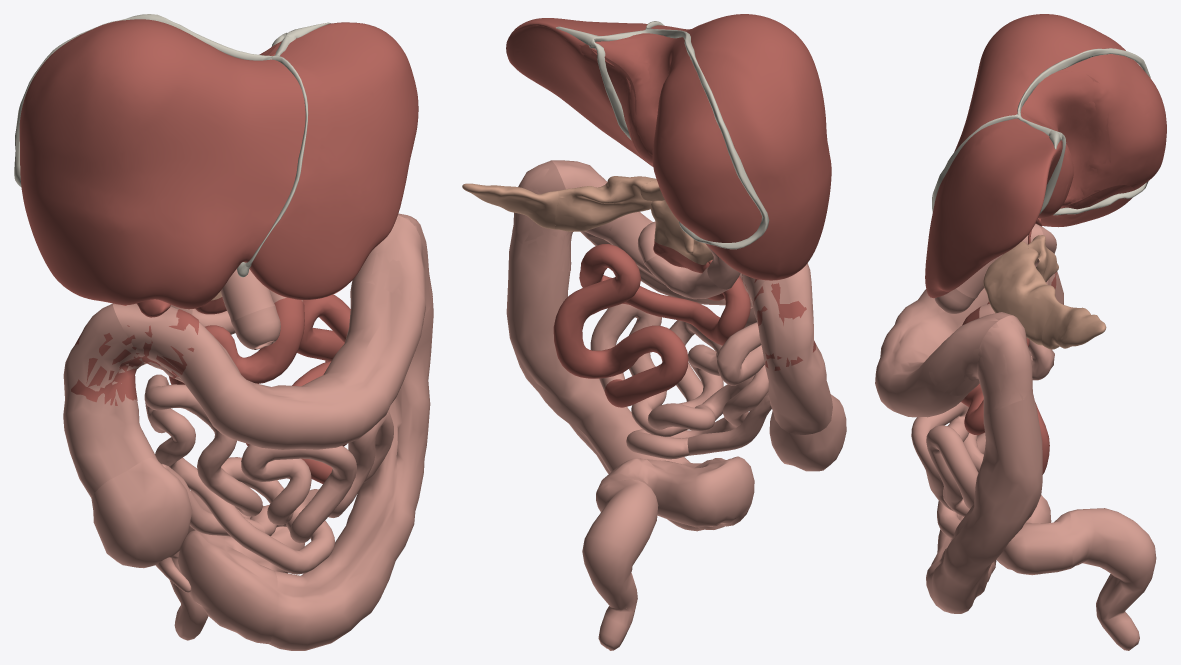
The model's file is adult_female.digestive.LOD0.glb.
3 views of the same model, side by side, from view 1: azimuth 30°, elevation 25°; view 2: azimuth 150°, elevation 25°; view 3: azimuth 270°, elevation 25° (orthographic). The views are drawn at different scales.
Visible parts, largest first — view 1: ADULT.FEMALE.DIGESTIVE.CAPSULE_OF_THE_LIVER, ADULT.FEMALE.DIGESTIVE.TRANSVERSE_COLON, ADULT.FEMALE.DIGESTIVE.ILEUM, ADULT.FEMALE.DIGESTIVE.DESCENDING_COLON, ADULT.FEMALE.DIGESTIVE.ASCENDING_COLON, ADULT.FEMALE.DIGESTIVE.SIGMOID_COLON, ADULT.FEMALE.DIGESTIVE.CAECUM, ADULT.FEMALE.DIGESTIVE.JEJENUM, ADULT.FEMALE.DIGESTIVE.HEPATIC_FLEXURE_OF_COLON, ADULT.FEMALE.DIGESTIVE.DUODENUM_SUPERIOR, ADULT.FEMALE.DIGESTIVE.CORONARY_LIGAMENT_OF_LIVER, ADULT.FEMALE.DIGESTIVE.SPLENIC_FLEXURE_OF_COLON (+4 smaller); view 2: ADULT.FEMALE.DIGESTIVE.CAPSULE_OF_THE_LIVER, ADULT.FEMALE.DIGESTIVE.BARE_AREA_OF_LIVER, ADULT.FEMALE.DIGESTIVE.DESCENDING_COLON, ADULT.FEMALE.DIGESTIVE.JEJENUM, ADULT.FEMALE.DIGESTIVE.ILEUM, ADULT.FEMALE.DIGESTIVE.ASCENDING_COLON, ADULT.FEMALE.DIGESTIVE.RECTUM, ADULT.FEMALE.DIGESTIVE.SIGMOID_COLON, ADULT.FEMALE.DIGESTIVE.DIAPHRAGMATIC_SURFACE_OF_LIVER, ADULT.FEMALE.DIGESTIVE.BODY_OF_PANCREAS, ADULT.FEMALE.DIGESTIVE.TRANSVERSE_COLON, ADULT.FEMALE.DIGESTIVE.CAECUM (+13 smaller); view 3: ADULT.FEMALE.DIGESTIVE.CAPSULE_OF_THE_LIVER, ADULT.FEMALE.DIGESTIVE.DESCENDING_COLON, ADULT.FEMALE.DIGESTIVE.BARE_AREA_OF_LIVER, ADULT.FEMALE.DIGESTIVE.TRANSVERSE_COLON, ADULT.FEMALE.DIGESTIVE.RECTUM, ADULT.FEMALE.DIGESTIVE.ILEUM, ADULT.FEMALE.DIGESTIVE.BODY_OF_PANCREAS, ADULT.FEMALE.DIGESTIVE.SIGMOID_COLON, ADULT.FEMALE.DIGESTIVE.CAUDATE_LOBE, ADULT.FEMALE.DIGESTIVE.TAIL_OF_PANCREAS, ADULT.FEMALE.DIGESTIVE.CORONARY_LIGAMENT_OF_LIVER, ADULT.FEMALE.DIGESTIVE.SPLENIC_FLEXURE_OF_COLON (+7 smaller).
Part boxes in pixels (x1,y1,x2,y2): ADULT.FEMALE.DIGESTIVE.CAPSULE_OF_THE_LIVER: [19, 19, 418, 309]; ADULT.FEMALE.DIGESTIVE.TRANSVERSE_COLON: [113, 215, 425, 449]; ADULT.FEMALE.DIGESTIVE.ILEUM: [144, 374, 393, 574]; ADULT.FEMALE.DIGESTIVE.DESCENDING_COLON: [269, 213, 433, 650]; ADULT.FEMALE.DIGESTIVE.ASCENDING_COLON: [63, 303, 157, 497]; ADULT.FEMALE.DIGESTIVE.SIGMOID_COLON: [178, 506, 305, 643]; ADULT.FEMALE.DIGESTIVE.CAECUM: [91, 457, 192, 568]; ADULT.FEMALE.DIGESTIVE.JEJENUM: [169, 294, 350, 483]; ADULT.FEMALE.DIGESTIVE.HEPATIC_FLEXURE_OF_COLON: [71, 305, 199, 405]; ADULT.FEMALE.DIGESTIVE.DUODENUM_SUPERIOR: [220, 269, 275, 322]; ADULT.FEMALE.DIGESTIVE.CORONARY_LIGAMENT_OF_LIVER: [14, 14, 294, 187]; ADULT.FEMALE.DIGESTIVE.SPLENIC_FLEXURE_OF_COLON: [350, 215, 432, 324]; ADULT.FEMALE.DIGESTIVE.CAPSULE_OF_THE_LIVER: [506, 14, 831, 280]; ADULT.FEMALE.DIGESTIVE.BARE_AREA_OF_LIVER: [588, 35, 761, 242]; ADULT.FEMALE.DIGESTIVE.DESCENDING_COLON: [506, 161, 703, 531]; ADULT.FEMALE.DIGESTIVE.JEJENUM: [553, 244, 750, 407]; ADULT.FEMALE.DIGESTIVE.ILEUM: [590, 303, 768, 459]; ADULT.FEMALE.DIGESTIVE.ASCENDING_COLON: [752, 263, 832, 434]; ADULT.FEMALE.DIGESTIVE.RECTUM: [582, 479, 658, 650]; ADULT.FEMALE.DIGESTIVE.SIGMOID_COLON: [596, 456, 754, 529]; ADULT.FEMALE.DIGESTIVE.DIAPHRAGMATIC_SURFACE_OF_LIVER: [506, 24, 779, 280]; ADULT.FEMALE.DIGESTIVE.BODY_OF_PANCREAS: [555, 176, 656, 231]; ADULT.FEMALE.DIGESTIVE.TRANSVERSE_COLON: [551, 160, 765, 308]; ADULT.FEMALE.DIGESTIVE.CAECUM: [769, 394, 846, 471]; ADULT.FEMALE.DIGESTIVE.CAPSULE_OF_THE_LIVER: [925, 14, 1134, 298]; ADULT.FEMALE.DIGESTIVE.DESCENDING_COLON: [926, 315, 1042, 613]; ADULT.FEMALE.DIGESTIVE.BARE_AREA_OF_LIVER: [1021, 55, 1166, 205]; ADULT.FEMALE.DIGESTIVE.TRANSVERSE_COLON: [875, 288, 1012, 417]; ADULT.FEMALE.DIGESTIVE.RECTUM: [1069, 508, 1156, 650]; ADULT.FEMALE.DIGESTIVE.ILEUM: [911, 340, 1054, 538]; ADULT.FEMALE.DIGESTIVE.BODY_OF_PANCREAS: [983, 248, 1058, 345]; ADULT.FEMALE.DIGESTIVE.SIGMOID_COLON: [937, 495, 1072, 575]; ADULT.FEMALE.DIGESTIVE.CAUDATE_LOBE: [1022, 71, 1110, 217]; ADULT.FEMALE.DIGESTIVE.TAIL_OF_PANCREAS: [1042, 302, 1106, 349]; ADULT.FEMALE.DIGESTIVE.CORONARY_LIGAMENT_OF_LIVER: [1017, 48, 1150, 215]; ADULT.FEMALE.DIGESTIVE.SPLENIC_FLEXURE_OF_COLON: [928, 317, 1033, 415].
Bounding box in the file's own units: 0.253 × 0.4459 × 0.2007.
